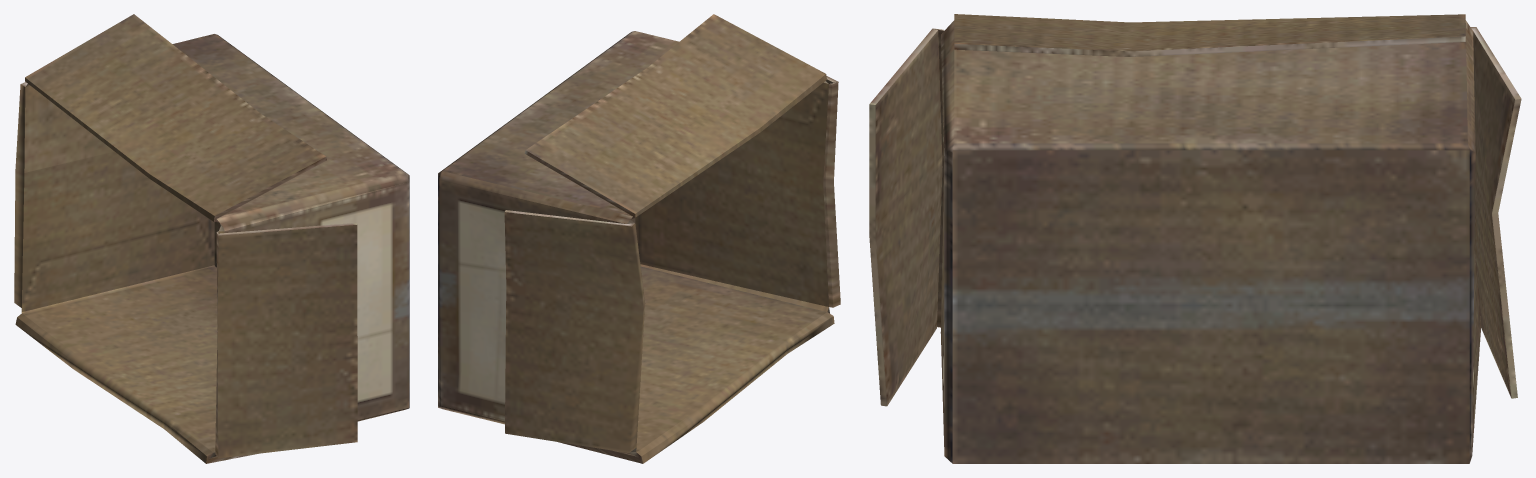
File: sm36_006_cardboard05a.fbx
The picture shows the model from 3 angles, left to right: view 1: azimuth 30°, elevation 25°; view 2: azimuth 150°, elevation 25°; view 3: azimuth 270°, elevation 25°; orthographic projection. The views are drawn at different scales.
Parts seen in each view (by area): view 1: LOD_1_Group_1_Sub_1__sm36_006_Cardboard05A_A_Mat; view 2: LOD_1_Group_1_Sub_1__sm36_006_Cardboard05A_A_Mat; view 3: LOD_1_Group_1_Sub_1__sm36_006_Cardboard05A_A_Mat.
Boxes of the visible parts, bbox=[...] form: LOD_1_Group_1_Sub_1__sm36_006_Cardboard05A_A_Mat: bbox=[14, 14, 409, 463]; LOD_1_Group_1_Sub_1__sm36_006_Cardboard05A_A_Mat: bbox=[438, 14, 840, 463]; LOD_1_Group_1_Sub_1__sm36_006_Cardboard05A_A_Mat: bbox=[869, 14, 1521, 463].
Bounding box in the file's own units: 0.4015 × 0.5368 × 0.8236.
